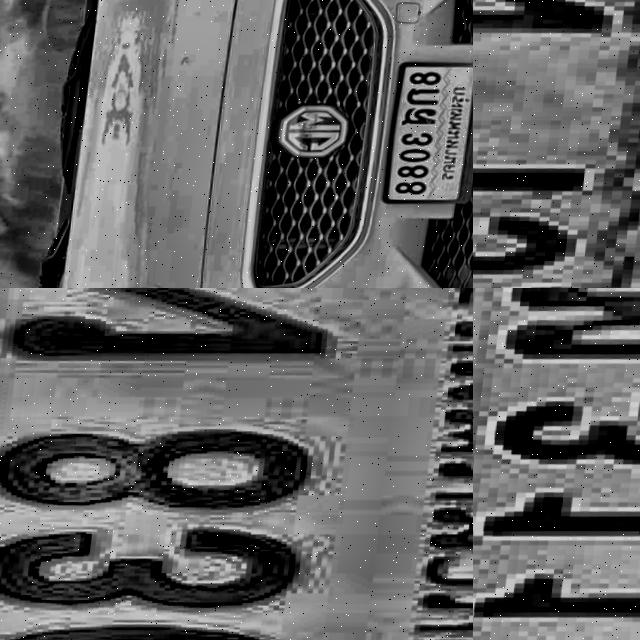license-plate: (0, 288, 473, 640), (473, 288, 640, 640), (473, 0, 640, 288), (384, 63, 473, 214)
